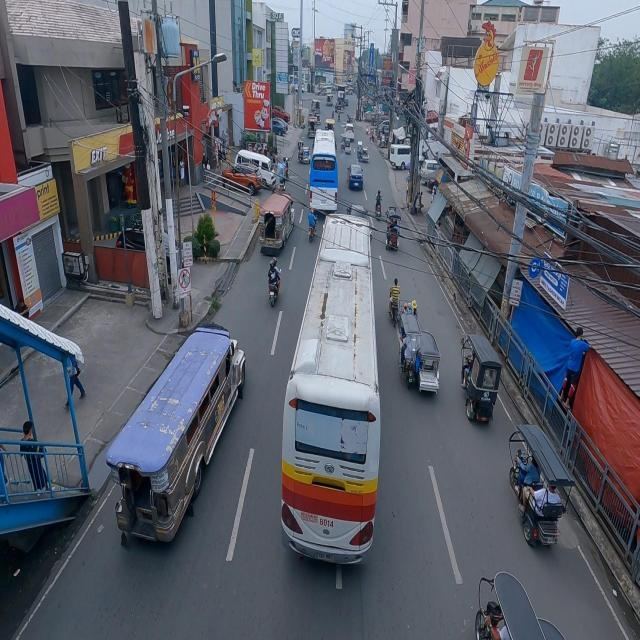Motorcycle: (266, 255, 282, 304), (306, 206, 318, 243), (373, 186, 383, 219)
